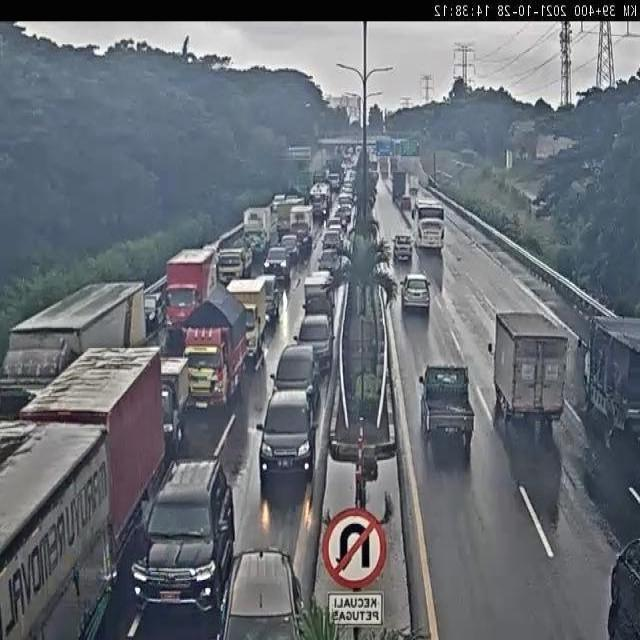Bus: (411, 198, 446, 253)
Car: (132, 456, 236, 612), (217, 548, 309, 640), (256, 388, 317, 481), (270, 343, 320, 414), (296, 314, 332, 376), (264, 245, 294, 285), (401, 272, 430, 313), (262, 273, 284, 322), (280, 234, 300, 265), (393, 233, 414, 262), (317, 249, 339, 276), (322, 228, 342, 252), (399, 195, 413, 212)
Truck: (15, 339, 163, 566), (0, 414, 115, 640), (0, 276, 146, 421), (493, 312, 569, 434), (178, 288, 249, 412), (577, 313, 640, 442), (161, 242, 219, 340), (418, 361, 477, 447), (220, 276, 267, 362), (157, 354, 190, 454), (241, 203, 274, 261), (216, 238, 254, 285), (304, 270, 335, 314), (288, 205, 314, 253), (308, 179, 332, 220), (144, 290, 164, 333), (391, 169, 407, 201), (408, 174, 419, 194), (379, 158, 389, 178), (389, 157, 399, 176)
